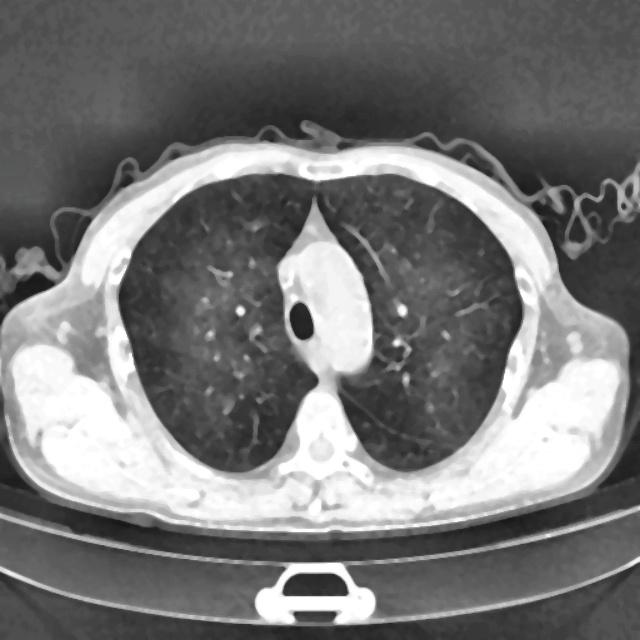covid: (1, 120, 633, 539)
